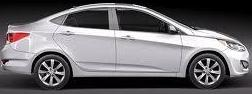backlight: (4, 31, 32, 47)
headlight: (216, 36, 248, 53)
side_glass: (51, 7, 188, 39)
